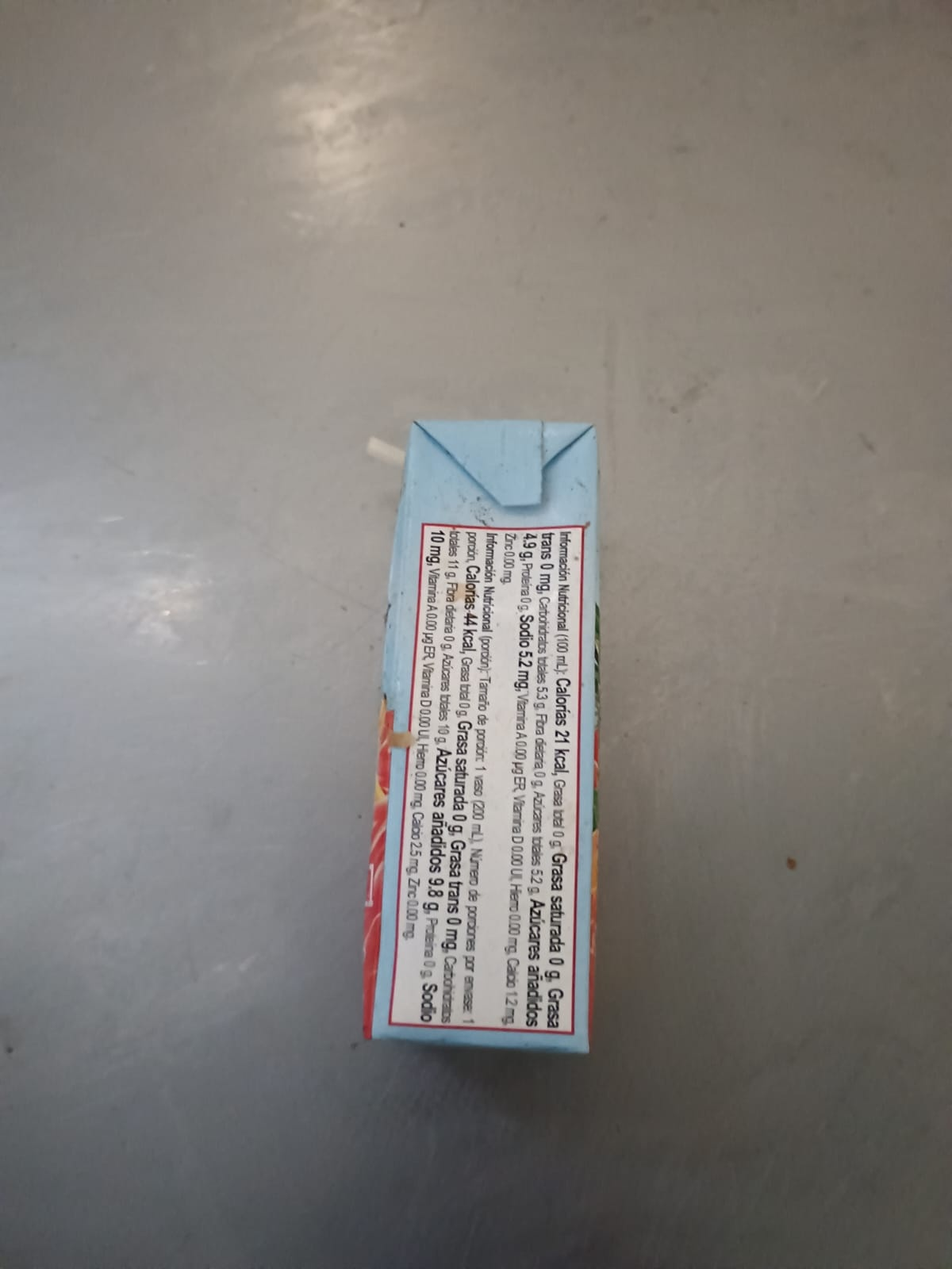Carton: (366, 419, 602, 1053)
